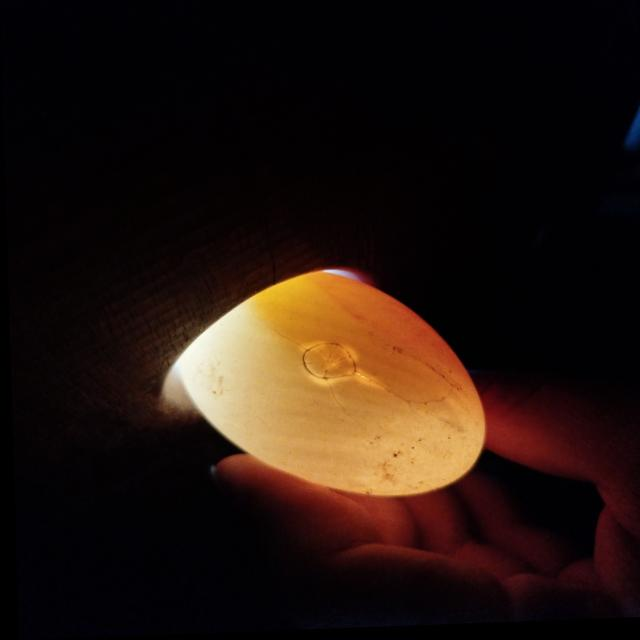Rachadura: (301, 346, 353, 381)
